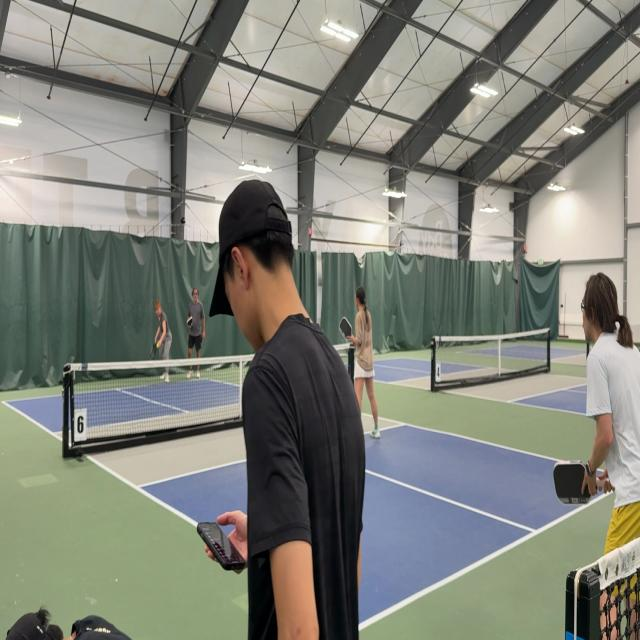ball: (156, 342, 160, 349)
